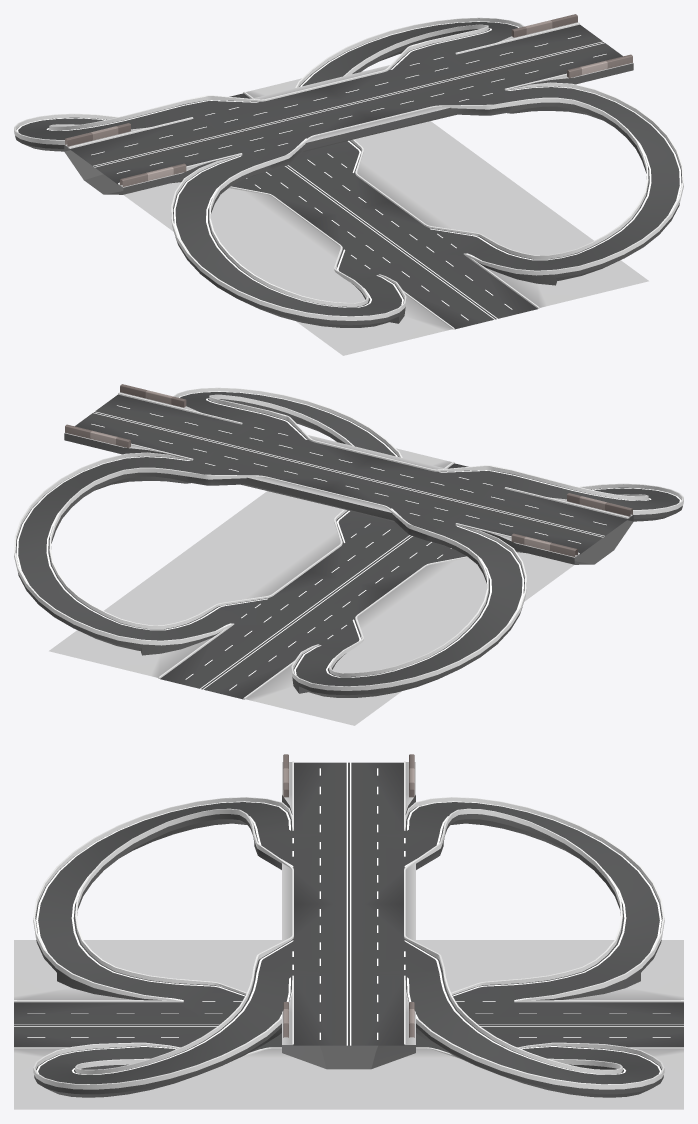
The model's file is road_junction_001.glb.
3 views of the same model, one above another, from view 1: azimuth 30°, elevation 25°; view 2: azimuth 150°, elevation 25°; view 3: azimuth 270°, elevation 25° (orthographic). The views are drawn at different scales.
Visible parts, largest first — view 1: road_junction_001; view 2: road_junction_001; view 3: road_junction_001.
Boxes of the visible parts, x1,y1,x2,y2 form: road_junction_001: (14, 14, 683, 355); road_junction_001: (14, 384, 683, 725); road_junction_001: (14, 754, 683, 1109).
Size of the model in its own units: 75 by 16.14 by 75.
1 material, 1 textured.
